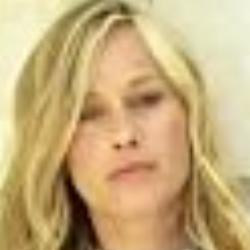face: (3, 1, 225, 233)
